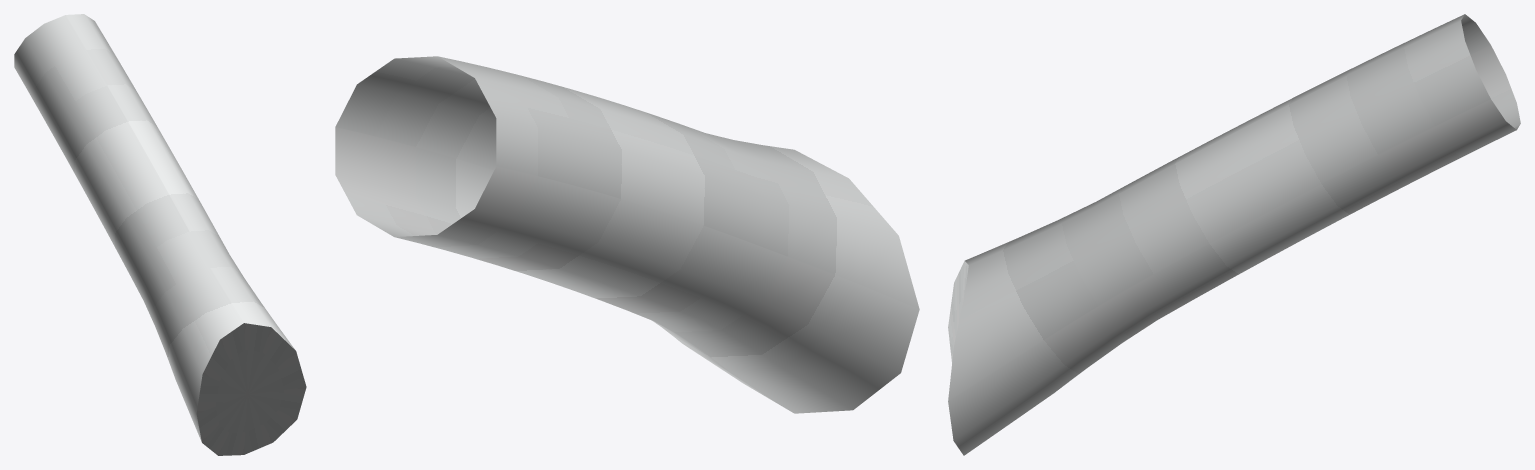
Rendered from luminairearm_caltrans12ft_c0.obj.
3 renders of one model, left to right at view 1: azimuth 30°, elevation 25°; view 2: azimuth 150°, elevation 25°; view 3: azimuth 270°, elevation 25°, orthographic. The views are drawn at different scales.
Visible parts, largest first — view 1: luminairearm_caltrans12ft_c0; view 2: luminairearm_caltrans12ft_c0; view 3: luminairearm_caltrans12ft_c0.
Boxes of the visible parts, bbox=[...] form: luminairearm_caltrans12ft_c0: bbox=[14, 14, 306, 455]; luminairearm_caltrans12ft_c0: bbox=[335, 56, 919, 413]; luminairearm_caltrans12ft_c0: bbox=[948, 14, 1520, 455].
Size of the model in its own units: 0.3375 by 0.9069 by 1.1.
